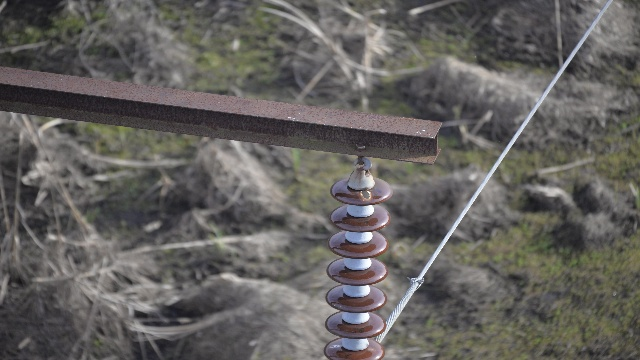insulator_unspecified: (323, 176, 393, 358)
pollution_flashover_local: (355, 188, 374, 201), (329, 342, 343, 350), (366, 347, 380, 352)
